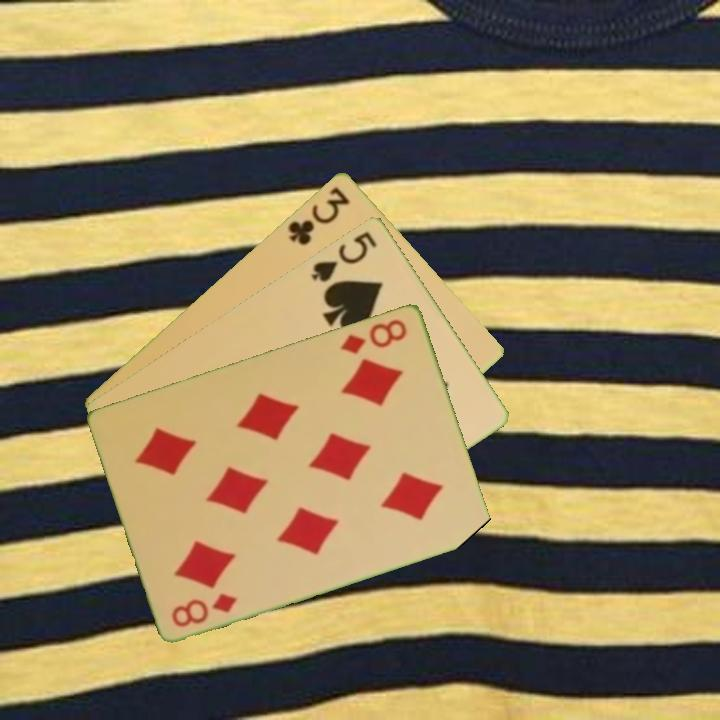3c: (284, 183, 353, 248)
5s: (307, 227, 380, 285)
8d: (337, 315, 410, 357), (168, 588, 240, 630)
